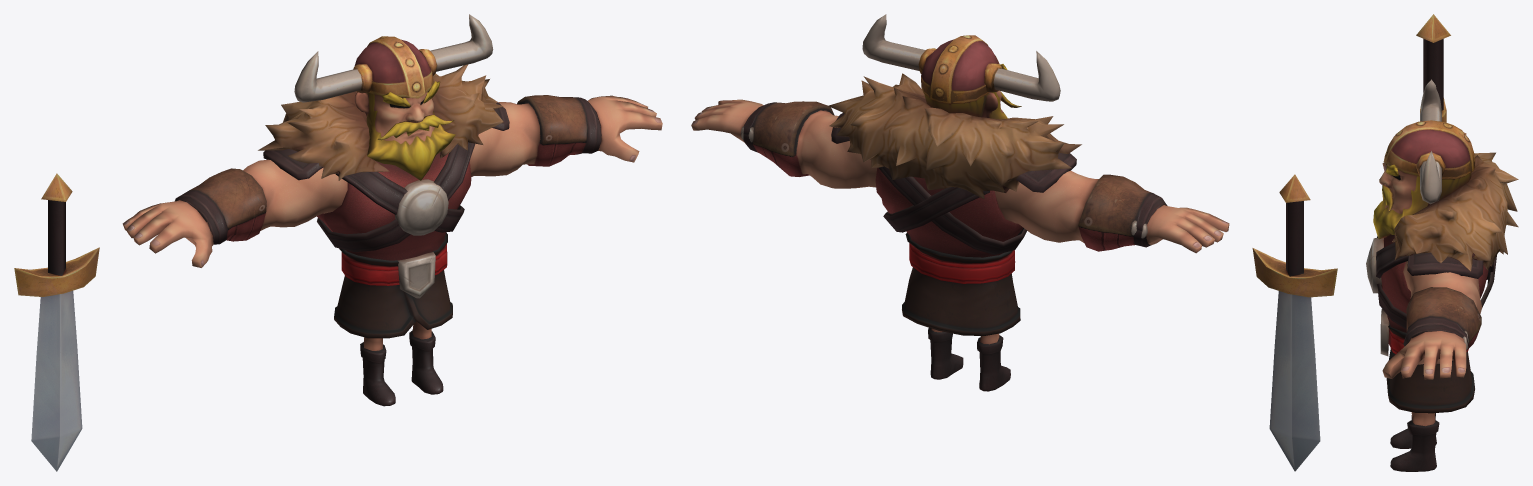
The model's file is MOD_Warrior_NoRig.fbx.
3 renders of one model, left to right at view 1: azimuth 30°, elevation 25°; view 2: azimuth 150°, elevation 25°; view 3: azimuth 270°, elevation 25°, orthographic. The views are drawn at different scales.
Parts seen in each view (by area): view 1: Warrior_Body, Warrior_Weapon; view 2: Warrior_Body, Warrior_Weapon; view 3: Warrior_Body, Warrior_Weapon.
Part boxes in pixels (x1,y1,x2,y2): Warrior_Body: (122,14,662,406); Warrior_Weapon: (14,173,99,471); Warrior_Body: (691,14,1229,391); Warrior_Weapon: (1252,174,1337,471); Warrior_Body: (1366,79,1518,471); Warrior_Weapon: (1416,14,1450,122).
Size of the model in its own units: 341 by 183 by 72.96.
